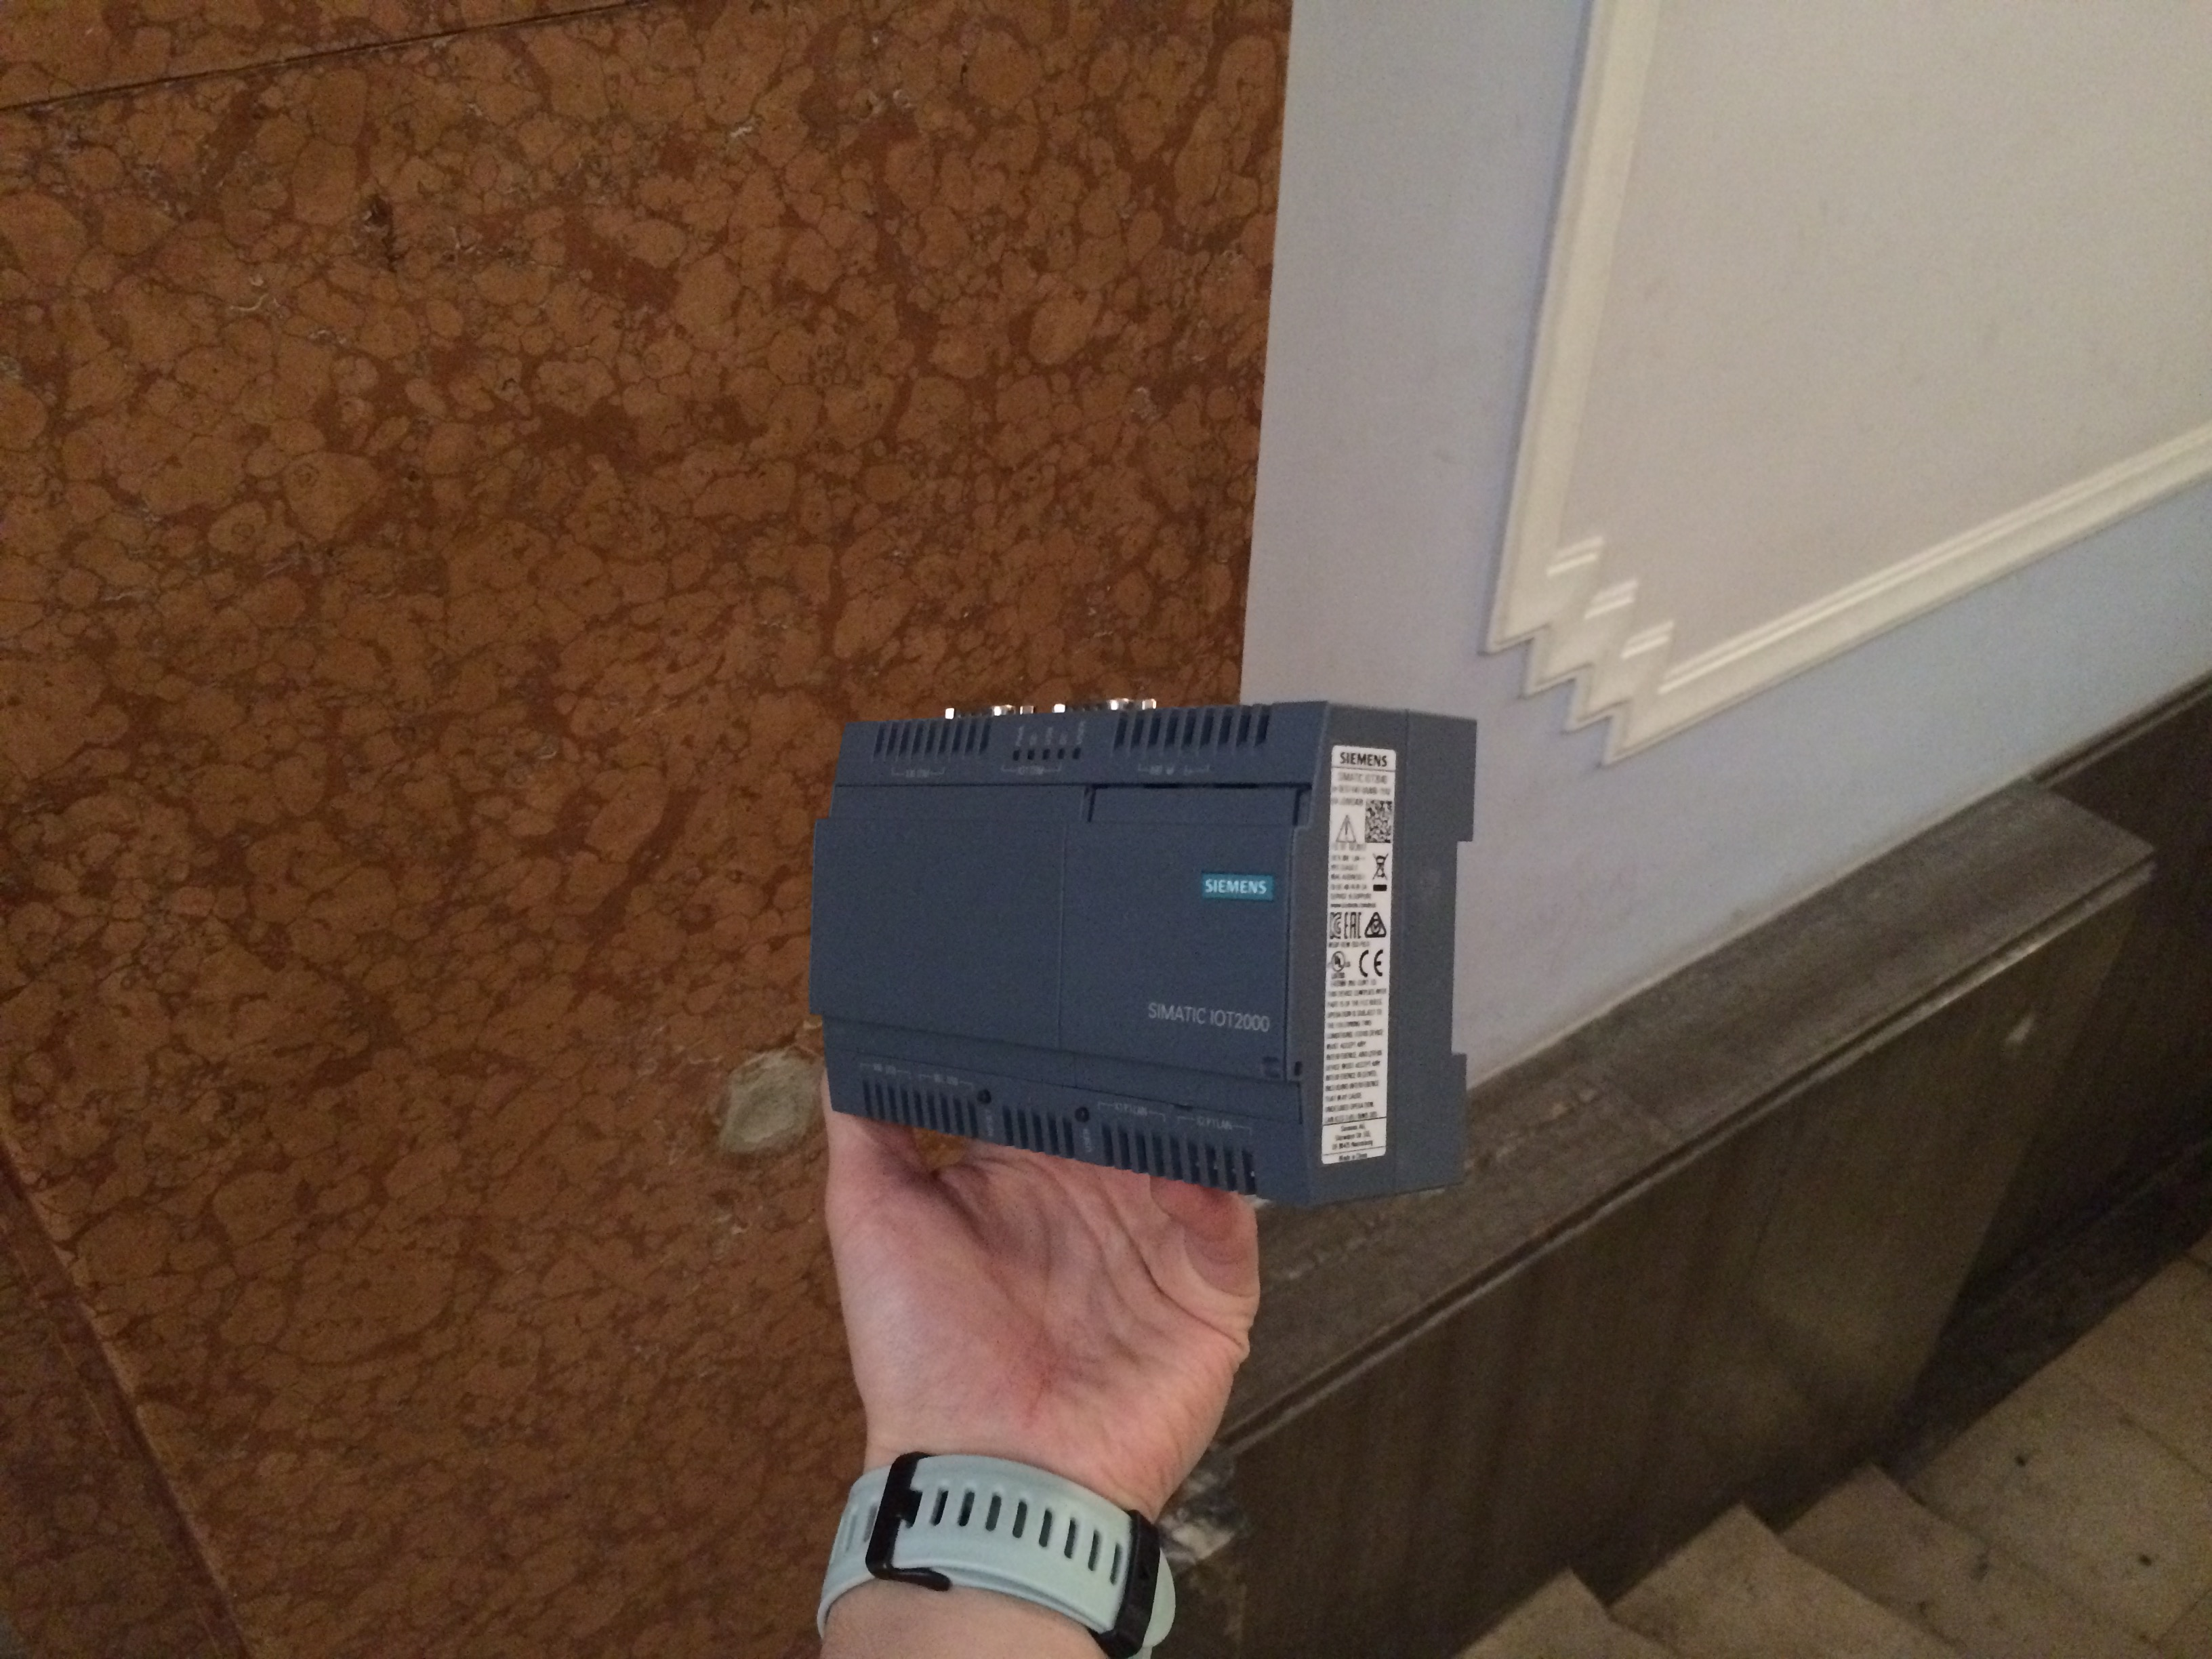iot2000: (805, 695, 1482, 1215)
